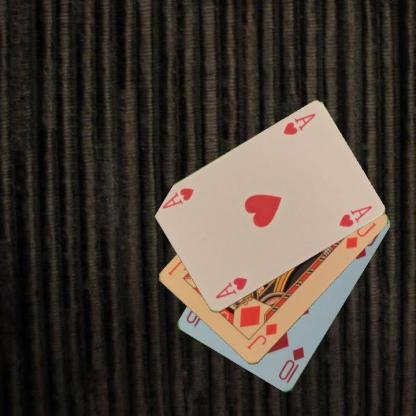10d: (276, 344, 306, 386)
Ah: (280, 111, 317, 137), (213, 275, 249, 300)
Jd: (245, 321, 278, 351)
